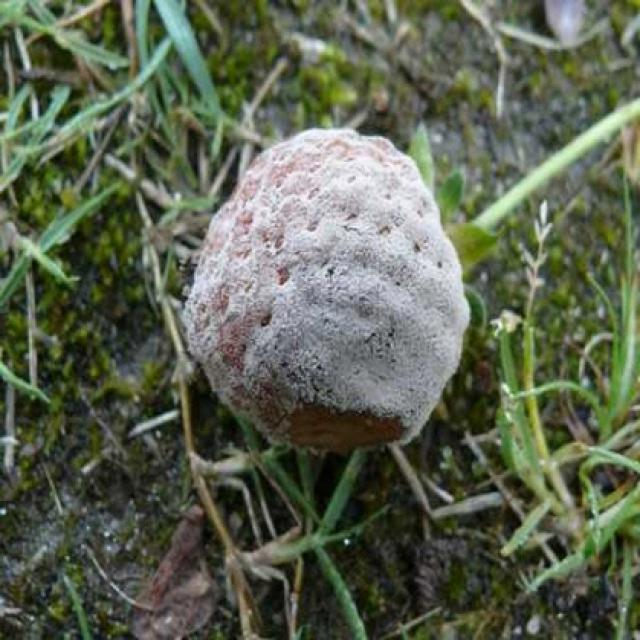Gray Mold: (180, 128, 474, 450)
